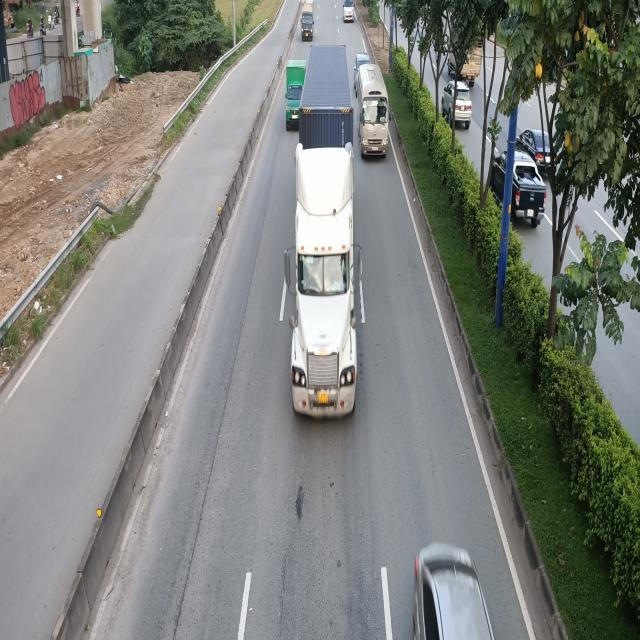container: (285, 50, 363, 427)
truck: (354, 63, 389, 161), (284, 58, 306, 128), (301, 0, 315, 41)
